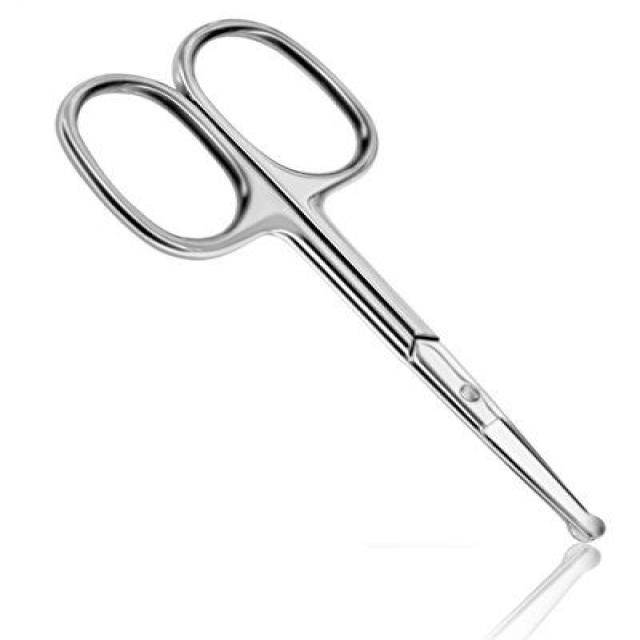Gunting: (48, 15, 618, 549)
